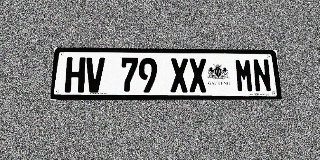7: (119, 58, 138, 93)
9: (139, 58, 157, 93)
H: (64, 57, 86, 93)
M: (234, 59, 254, 92)
N: (252, 59, 272, 92)
V: (85, 57, 105, 93)
X: (170, 58, 189, 92), (188, 58, 207, 92)
